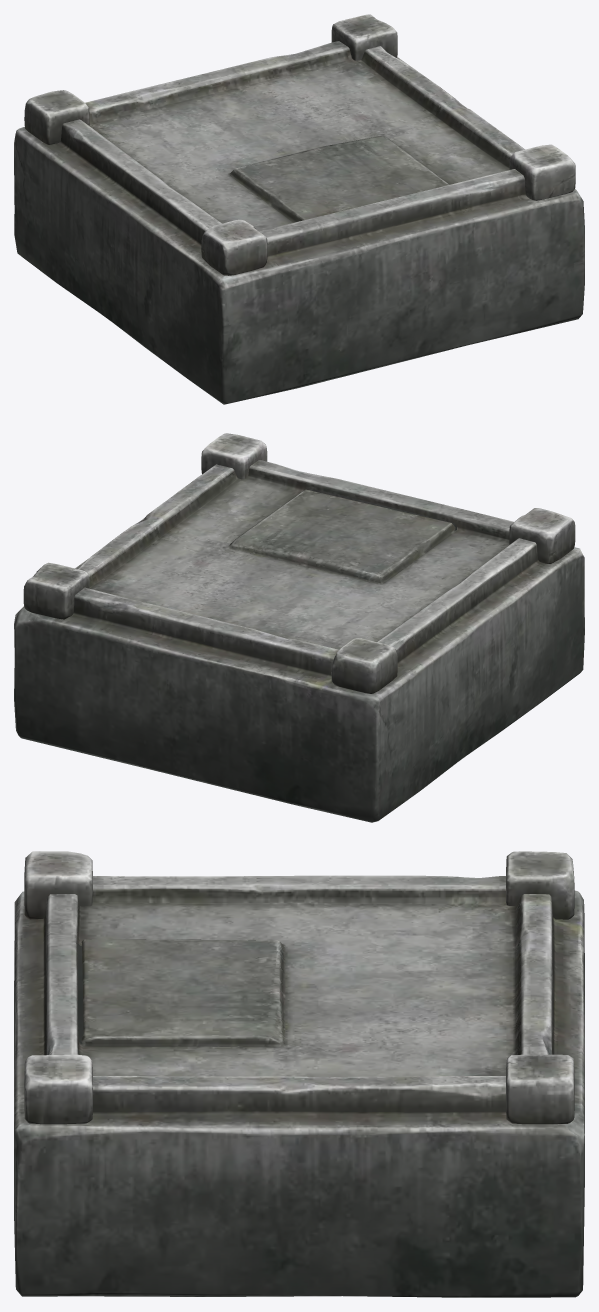
The picture shows the model from 3 angles, top to bottom: view 1: azimuth 30°, elevation 25°; view 2: azimuth 150°, elevation 25°; view 3: azimuth 270°, elevation 25°; orthographic projection. The views are drawn at different scales.
Visible parts, largest first — view 1: SM_Tombstone_Base_01_LOD0; view 2: SM_Tombstone_Base_01_LOD0; view 3: SM_Tombstone_Base_01_LOD0.
Part boxes in pixels (<box>): SM_Tombstone_Base_01_LOD0: <box>14,14,584,404</box>; SM_Tombstone_Base_01_LOD0: <box>14,433,584,822</box>; SM_Tombstone_Base_01_LOD0: <box>14,851,584,1297</box>.
Bounding box in the file's own units: 2.7 × 1.13 × 2.7.
Materials: 1 (1 with a texture image).
